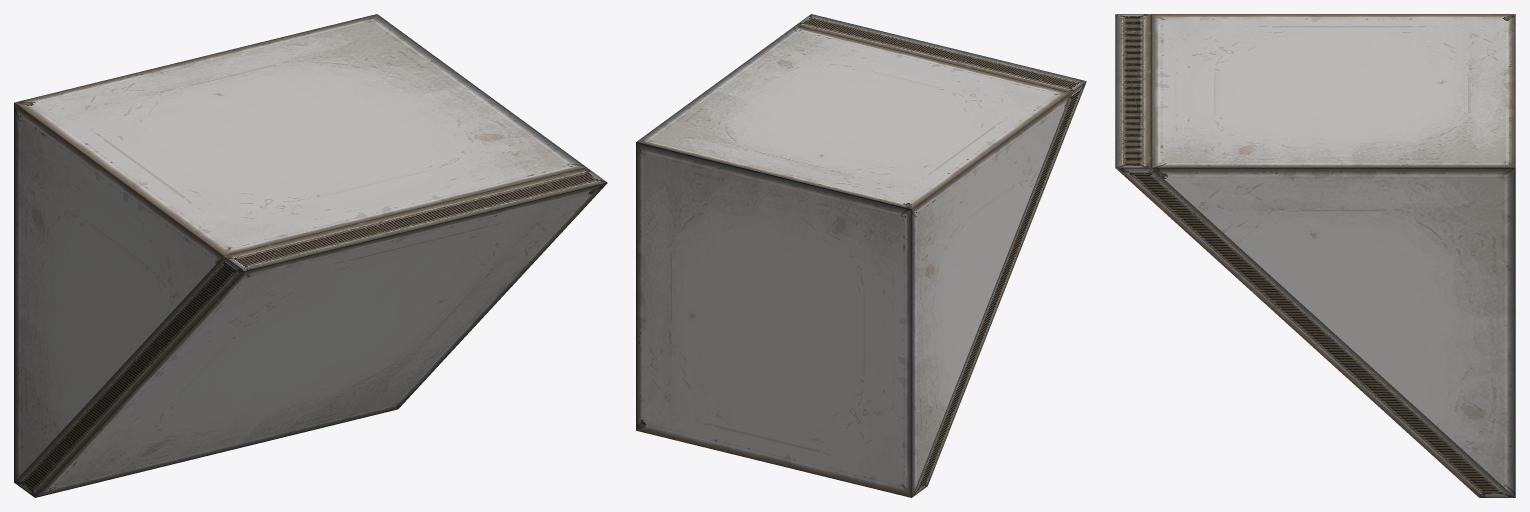
The model's file is scifi_wall_top1_edge.FBX.
3 views of the same model, side by side, from view 1: azimuth 30°, elevation 25°; view 2: azimuth 150°, elevation 25°; view 3: azimuth 270°, elevation 25° (orthographic). The views are drawn at different scales.
Visible parts, largest first — view 1: Plane368; view 2: Plane368; view 3: Plane368.
Boxes of the visible parts, x1=… form: Plane368: x1=14, y1=14, x2=607, y2=497; Plane368: x1=636, y1=14, x2=1086, y2=497; Plane368: x1=1115, y1=14, x2=1515, y2=497.
Size of the model in its own units: 254 by 254 by 279.
